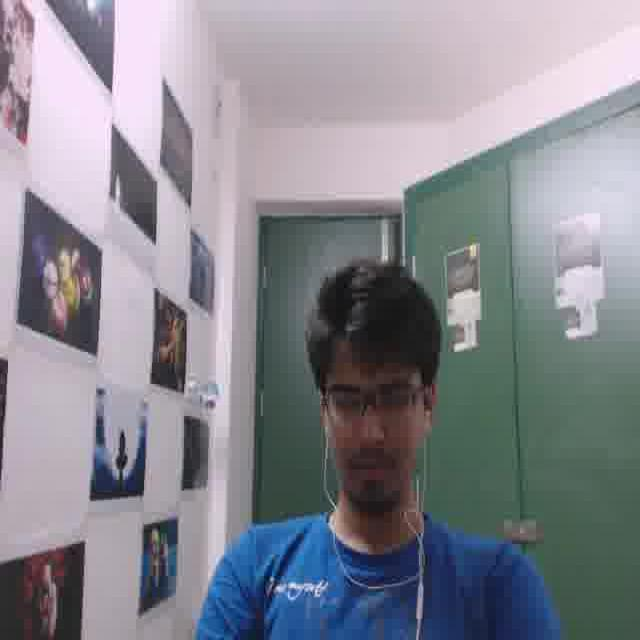Boredom: (317, 333, 424, 512)
